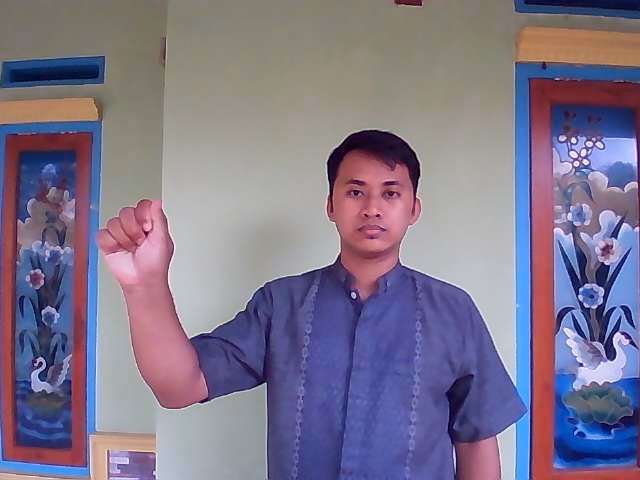A: (93, 196, 183, 301)
